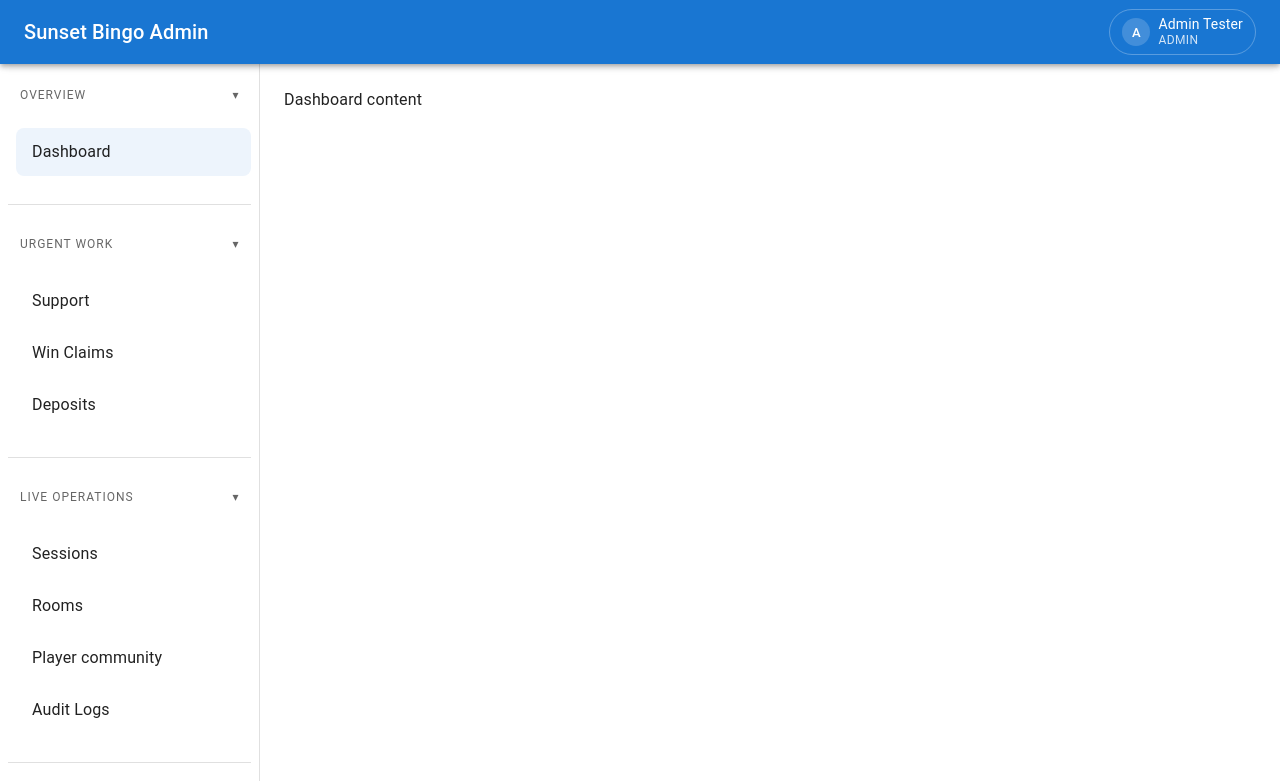
Test: AppShell › renders grouped navigation and the current user menu
Expected: the header shows "Sunset Bingo Admin", 24,20 -> 209,44
Expected: the text "Admin Tester" is shown, 1158,16 -> 1243,33
What coordinates should you click on to do the following:
click the button "Urgent work ▾"
I would click on:
 (67, 244)
Its box is 20,237 -> 239,251.
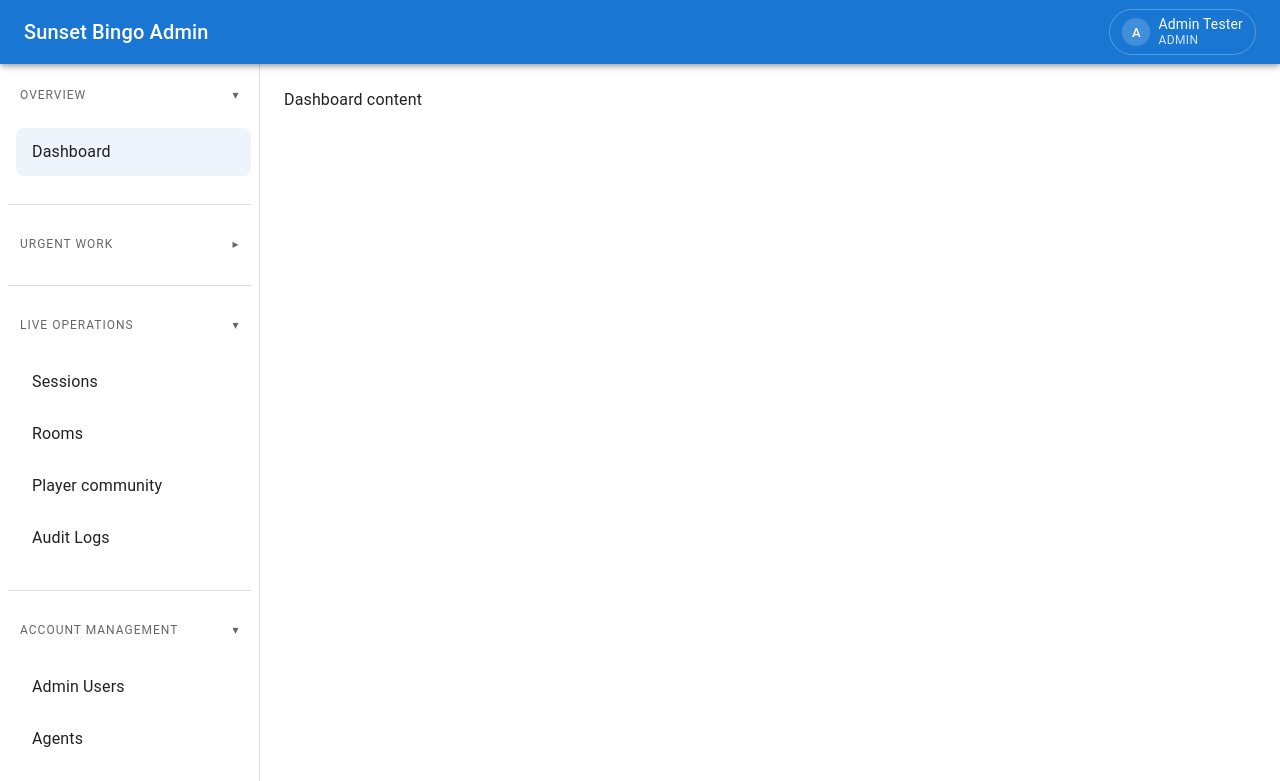
Now the button "Urgent work ▸" is collapsed
What coordinates should you click on to do the following:
click the button "Urgent work ▸"
I would click on:
 (67, 244)
Its box is 20,237 -> 239,251.
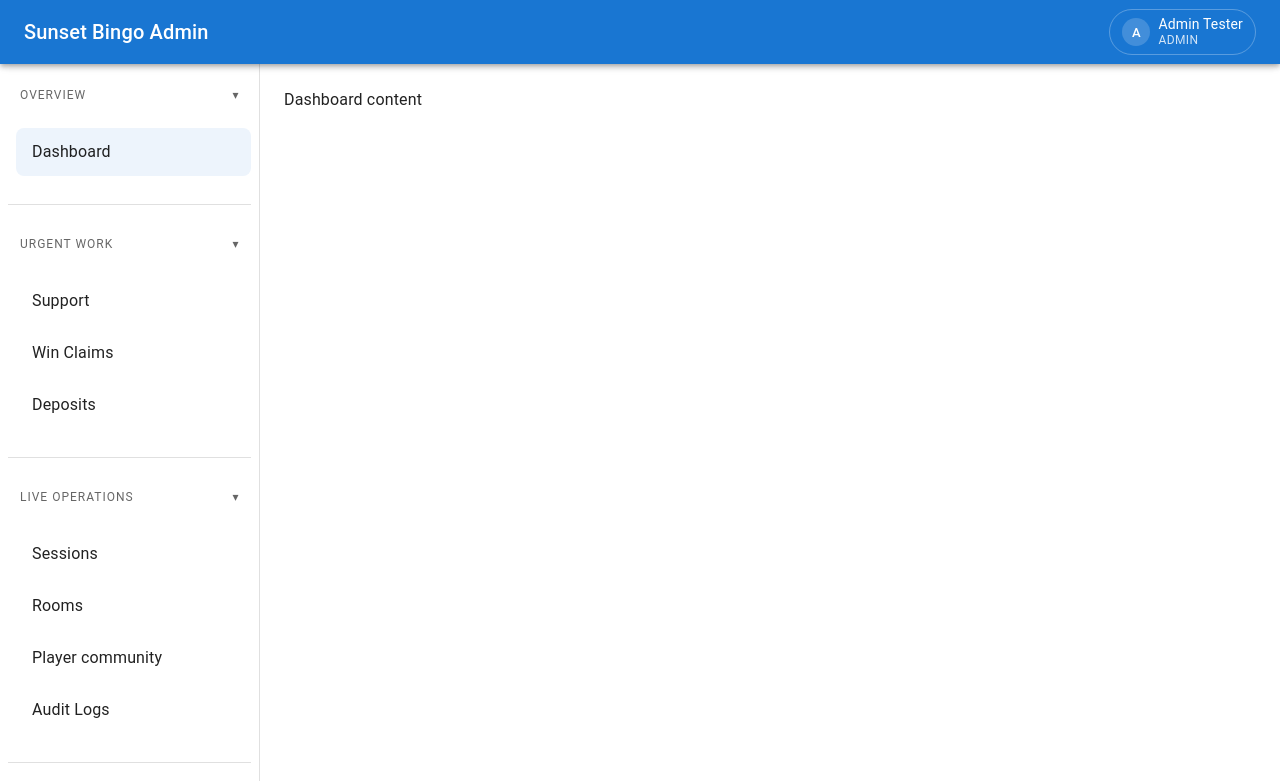
Now the button "Urgent work ▾" is expanded, box 20,237 -> 239,251
